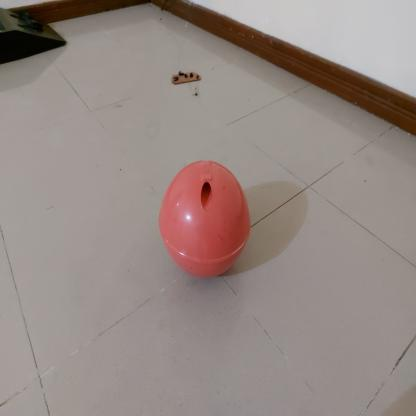red_buoy: (155, 158, 255, 281)
